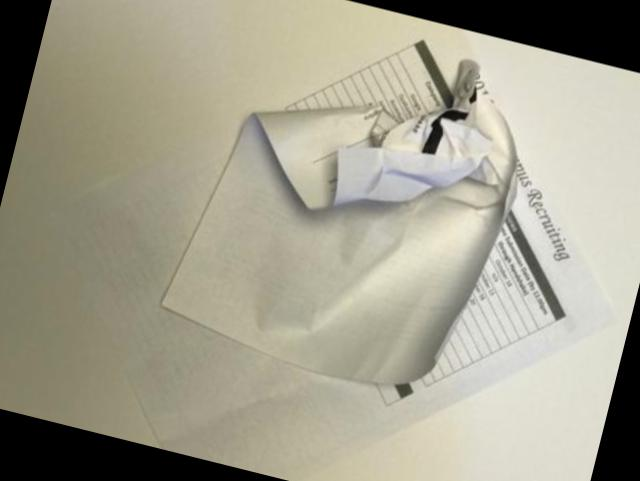cardboard paper: (34, 22, 620, 481), (163, 62, 516, 385)
